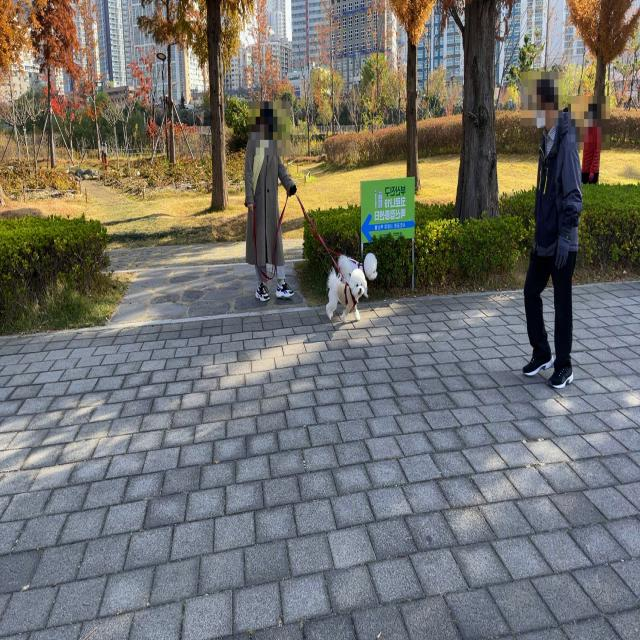Leashed_Dog: (274, 180, 367, 323), (275, 181, 378, 305)
